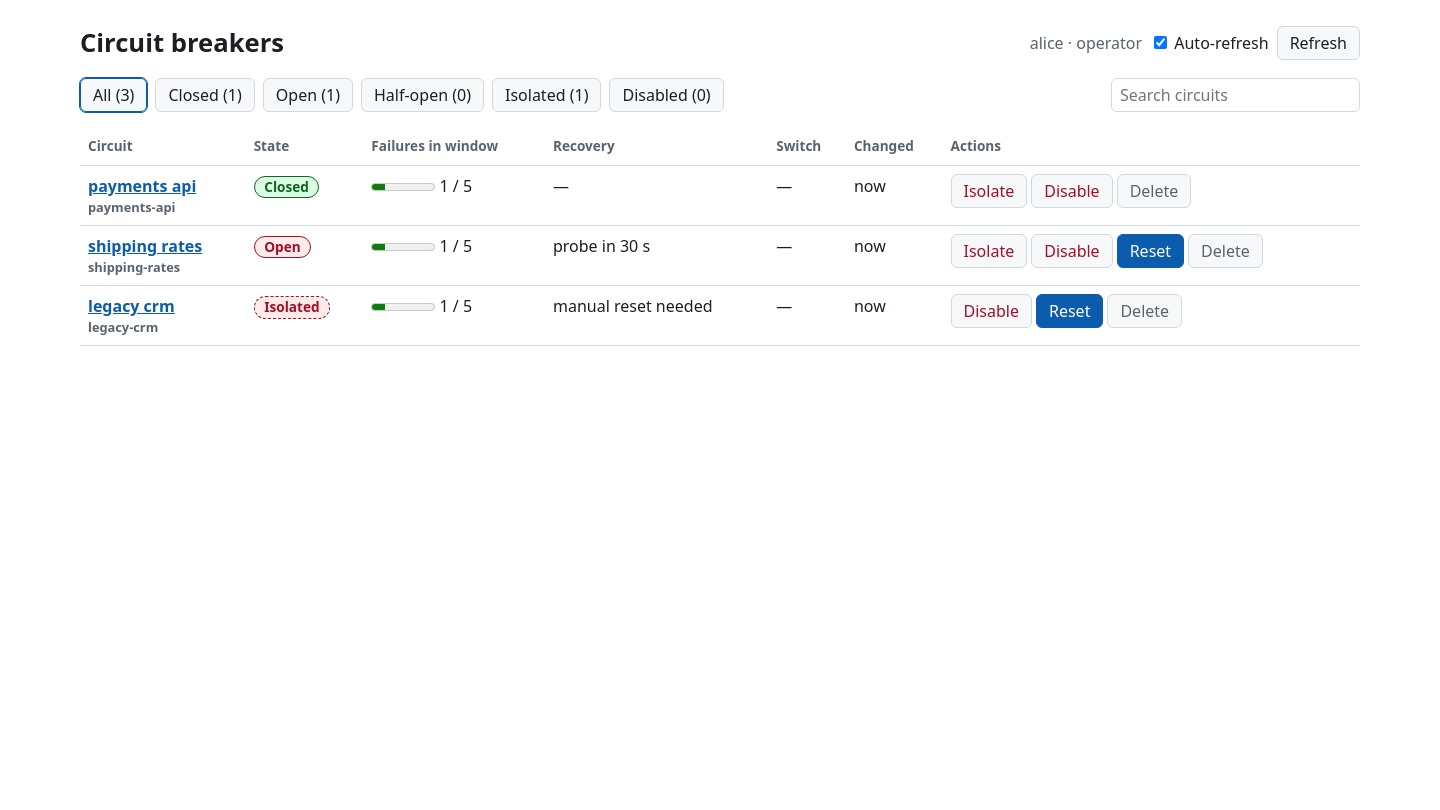
Test: the circuit console › asks for a reason before an action and sends it along
Click the button with aria-label "Reset shipping rates" at [1150, 251], box [1117,234,1184,268]
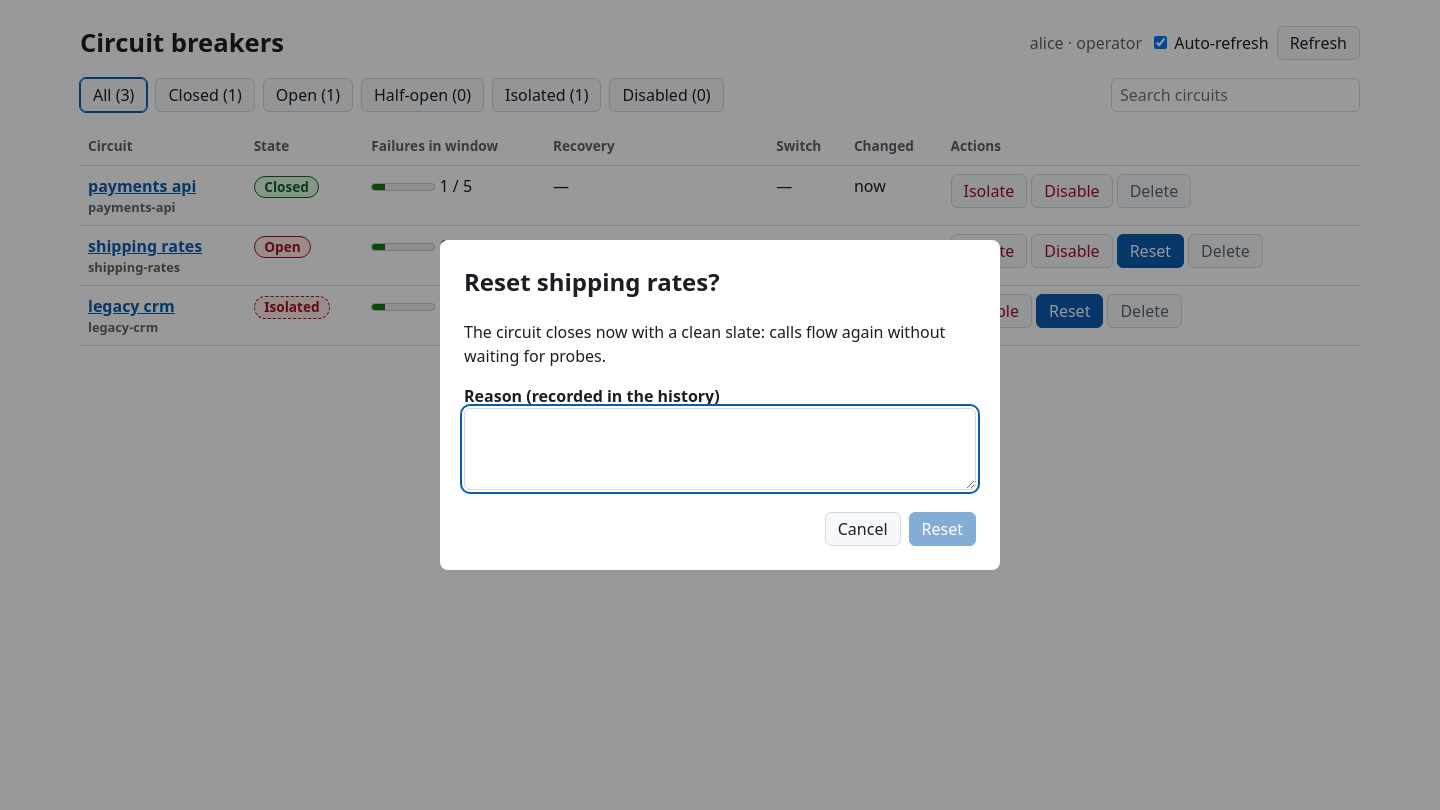
Result: the button "Reset" is disabled at [908,512,976,546]
Type "Upstream fixed" into the text box labelled "Reason (recorded in the history)" at [720, 449], box [464,408,976,490]
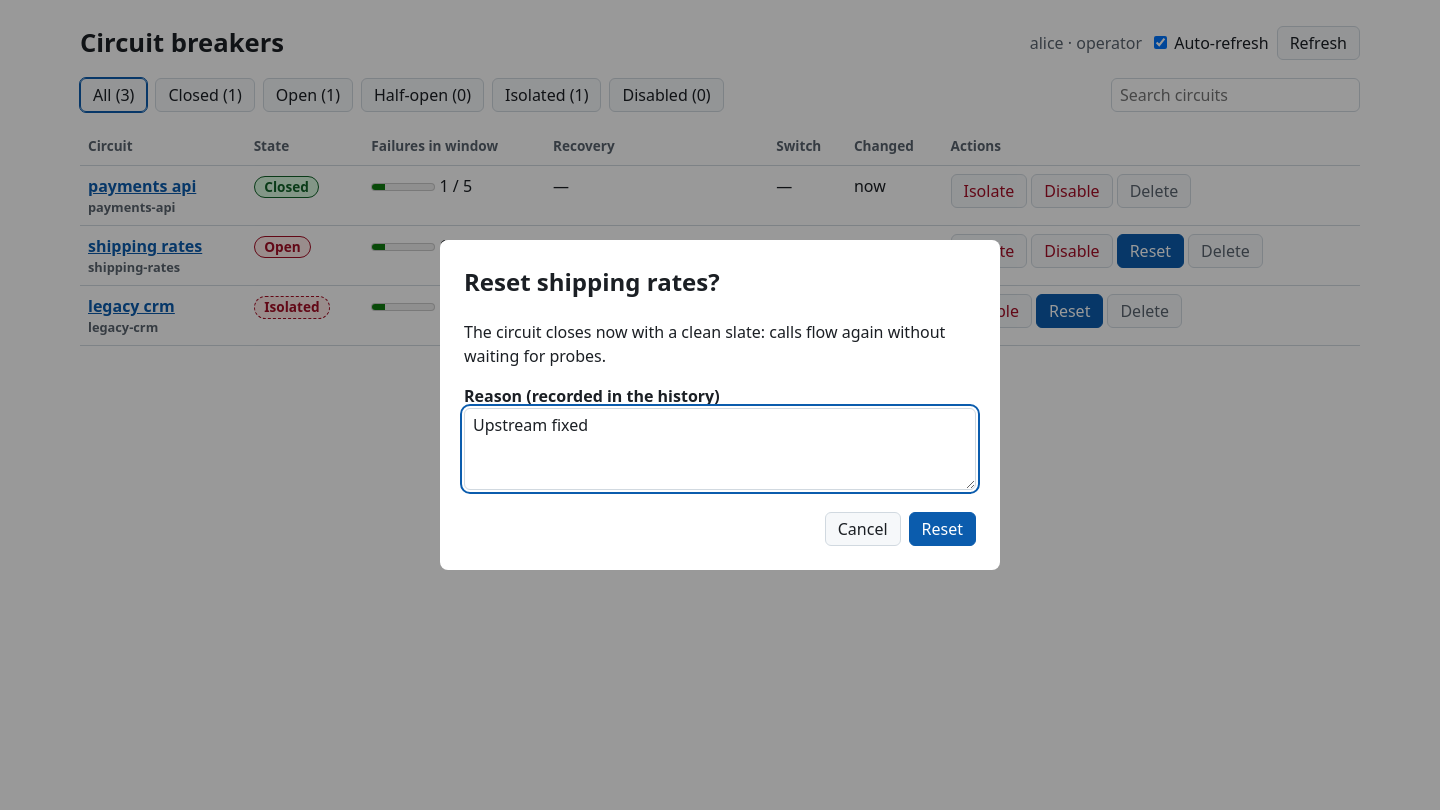
Click the button "Reset" at [942, 529], box [908,512,976,546]
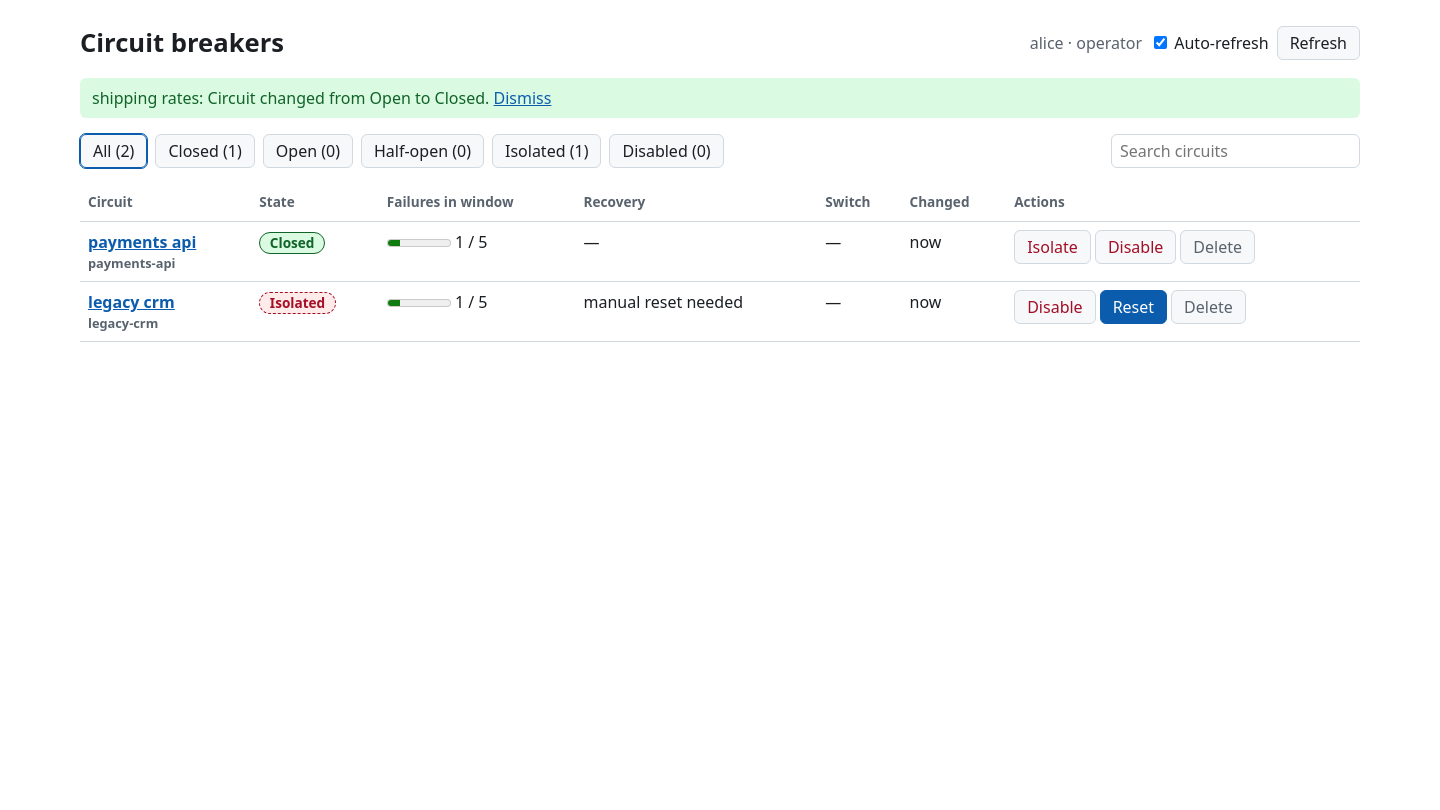
Result: the message shows "Circuit changed from Open to Closed." at [92,87,489,109]
